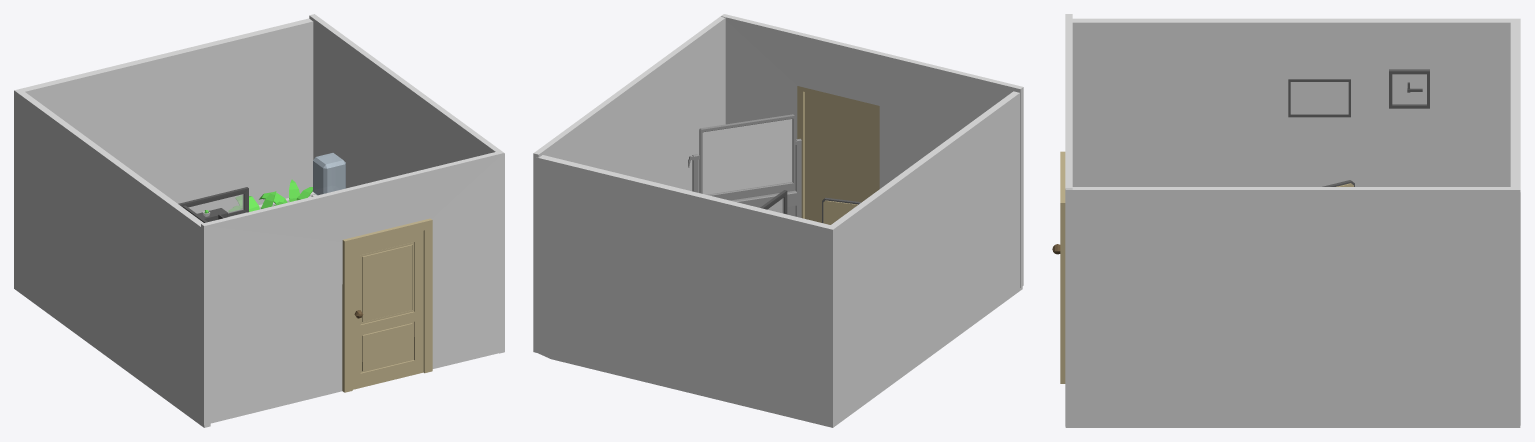
Rendered from ROOM3.fbx.
The picture shows the model from 3 angles, left to right: view 1: azimuth 30°, elevation 25°; view 2: azimuth 150°, elevation 25°; view 3: azimuth 270°, elevation 25°; orthographic projection. The views are drawn at different scales.
Parts seen in each view (by area): view 1: pCube80, pCube267, pCube342, pCube216, pCube145, pCube75; view 2: pCube80, pCube267, pCube342, pCube216, pCube141, pCube140, pCube348; view 3: pCube342, pCube80, Sign, pCube267, pCube119, pCube216.
Boxes of the visible parts, left/top/right/bottom form: pCube80: left=14, top=18, right=315, bottom=427; pCube267: left=201, top=151, right=503, bottom=424; pCube342: left=309, top=14, right=504, bottom=353; pCube216: left=342, top=218, right=432, bottom=392; pCube145: left=313, top=153, right=345, bottom=195; pCube75: left=180, top=187, right=248, bottom=217; pCube80: left=536, top=91, right=1022, bottom=427; pCube267: left=721, top=14, right=1023, bottom=287; pCube342: left=533, top=14, right=725, bottom=352; pCube216: left=797, top=86, right=879, bottom=222; pCube141: left=699, top=114, right=795, bottom=199; pCube140: left=688, top=138, right=801, bottom=217; pCube348: left=822, top=197, right=860, bottom=224; pCube342: left=1065, top=187, right=1520, bottom=427; pCube80: left=1072, top=18, right=1520, bottom=425; Sign: left=1288, top=79, right=1350, bottom=117; pCube267: left=1065, top=14, right=1072, bottom=426; pCube119: left=1389, top=69, right=1429, bottom=108; pCube216: left=1060, top=151, right=1065, bottom=383.
Bounding box in the file's own units: 17.15 × 11.02 × 19.34.
